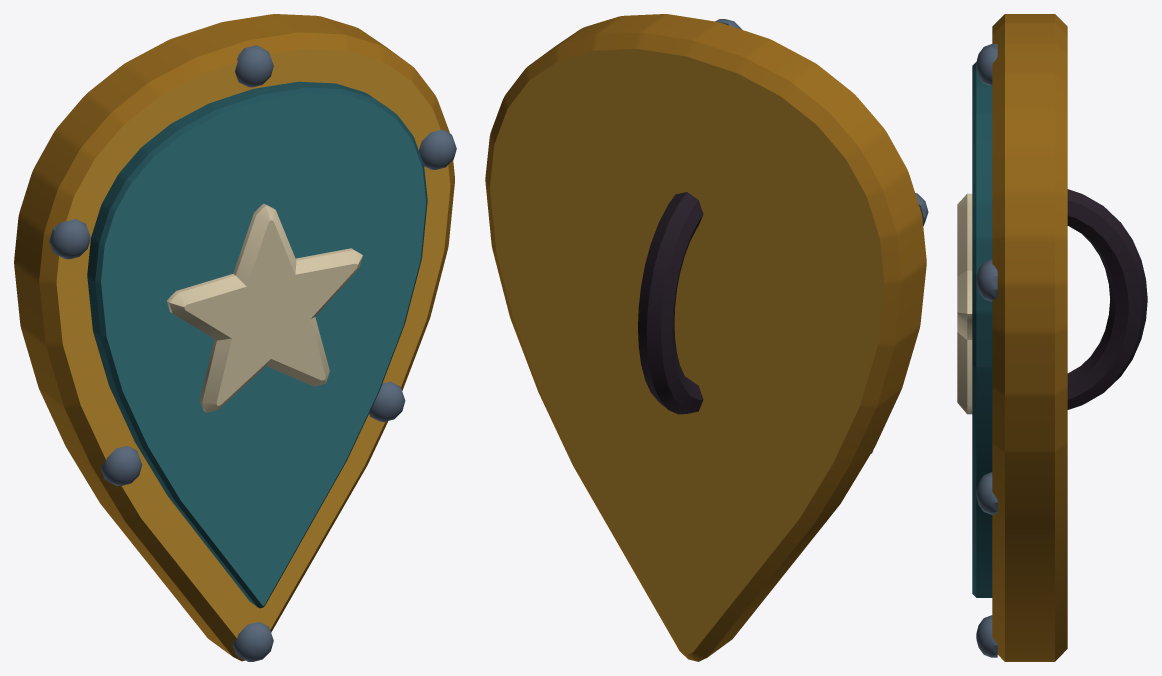
Rendered from KiteShield_02.glb.
The picture shows the model from 3 angles, left to right: view 1: azimuth 30°, elevation 25°; view 2: azimuth 150°, elevation 25°; view 3: azimuth 270°, elevation 25°; orthographic projection.
Visible parts, largest first — view 1: KiteShield_02; view 2: KiteShield_02; view 3: KiteShield_02.
Part boxes in pixels (bbox=[...]): KiteShield_02: bbox=[14, 14, 456, 661]; KiteShield_02: bbox=[485, 14, 928, 661]; KiteShield_02: bbox=[957, 14, 1147, 661].
Bounding box in the file's own units: 1.9 × 2.71 × 0.76.
